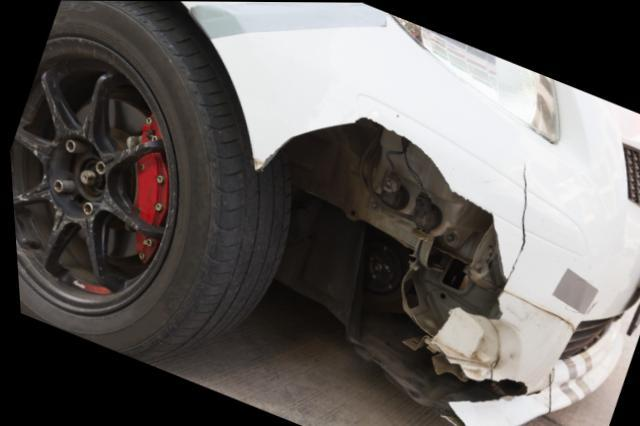crack: (445, 360, 524, 404), (501, 162, 525, 279)
no part: (257, 120, 568, 419)
